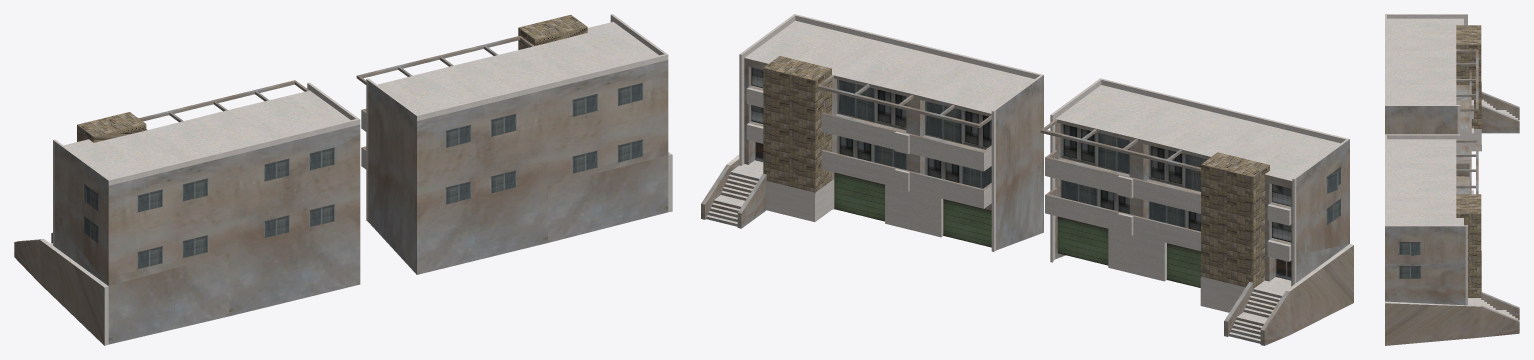
File: manns03_lawn.obj
3 renders of one model, left to right at view 1: azimuth 30°, elevation 25°; view 2: azimuth 150°, elevation 25°; view 3: azimuth 270°, elevation 25°, orthographic. The views are drawn at different scales.
Parts seen in each view (by area): view 1: manns03_LAwN; view 2: manns03_LAwN; view 3: manns03_LAwN.
Boxes of the visible parts, <box> form: manns03_LAwN: <box>14,14,672,345</box>; manns03_LAwN: <box>701,14,1353,345</box>; manns03_LAwN: <box>1385,14,1519,345</box>.
Size of the model in its own units: 62.25 by 17.76 by 17.37.
